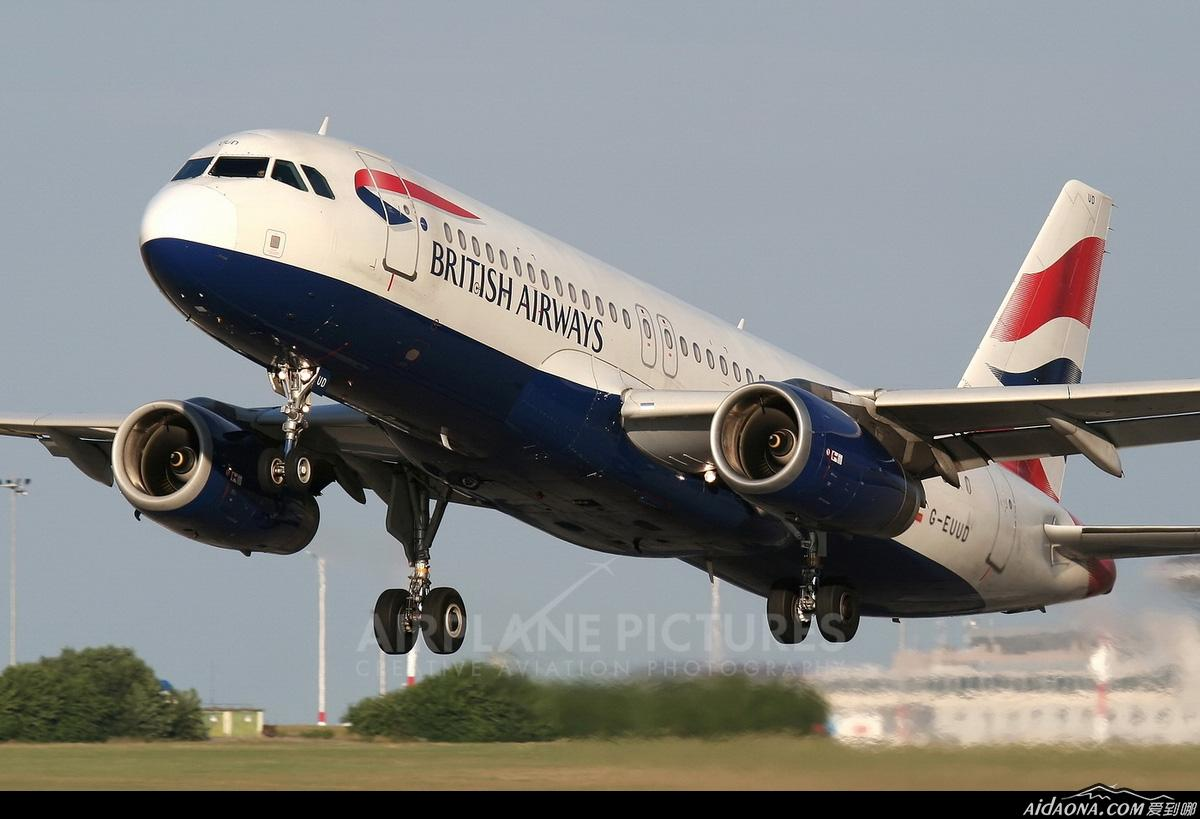airplane: (4, 118, 1200, 628)
